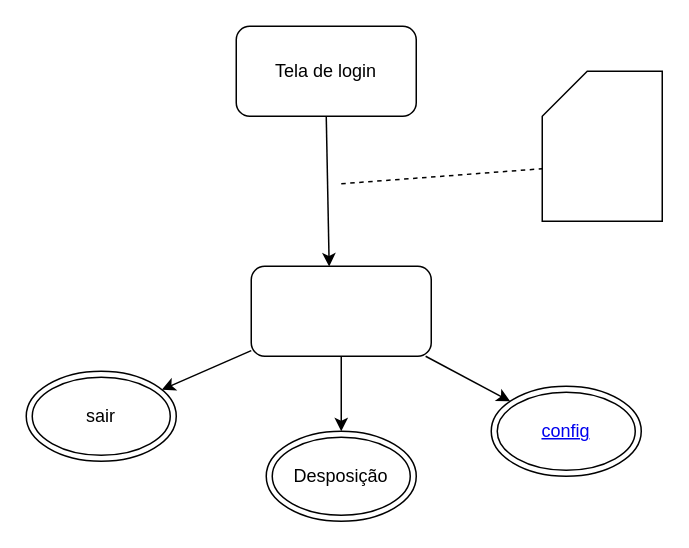
Image size: 689x548. Some labels were removed from this diagram. The centre of each missing label's shape, as x and y in pixels:
"login realizado com sucesso" belongs at point 601,145.
"loja" belongs at point 340,310.
